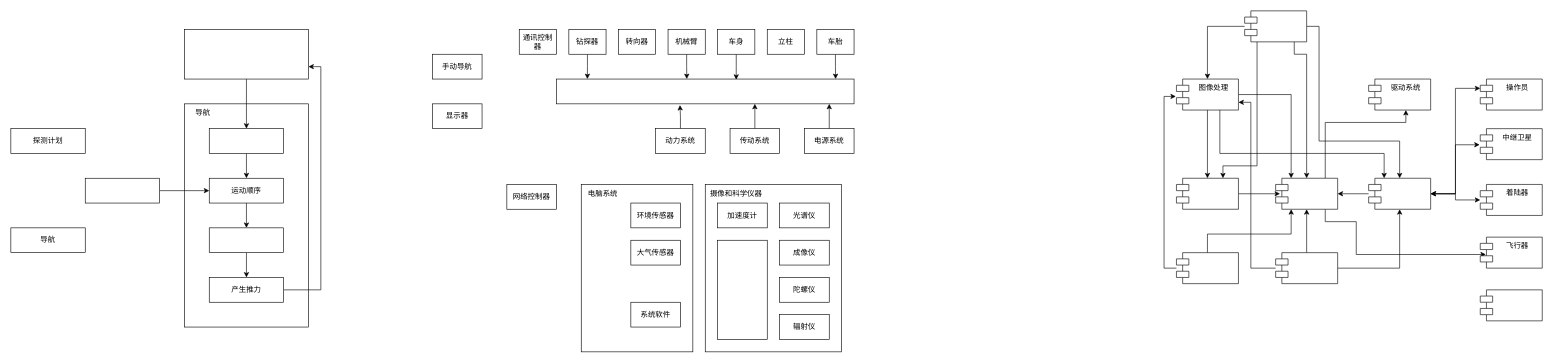
Image size: 1553x363. Some labels were removed from this diagram. The centre of each missing label's shape, as x and y in pixels:
传感器: point 1275,26
位置和姿态: point 246,140
导航与控制: point 1306,193
指令系统: point 122,190
火星地面: point 1511,305
火星环境: point 246,54
热控: point 1306,268
能源管理: point 1207,268
观察: point 742,289
计算推力和距离: point 246,240
计算机控制总线: point 705,91
通信: point 1399,193
避障: point 1207,193
